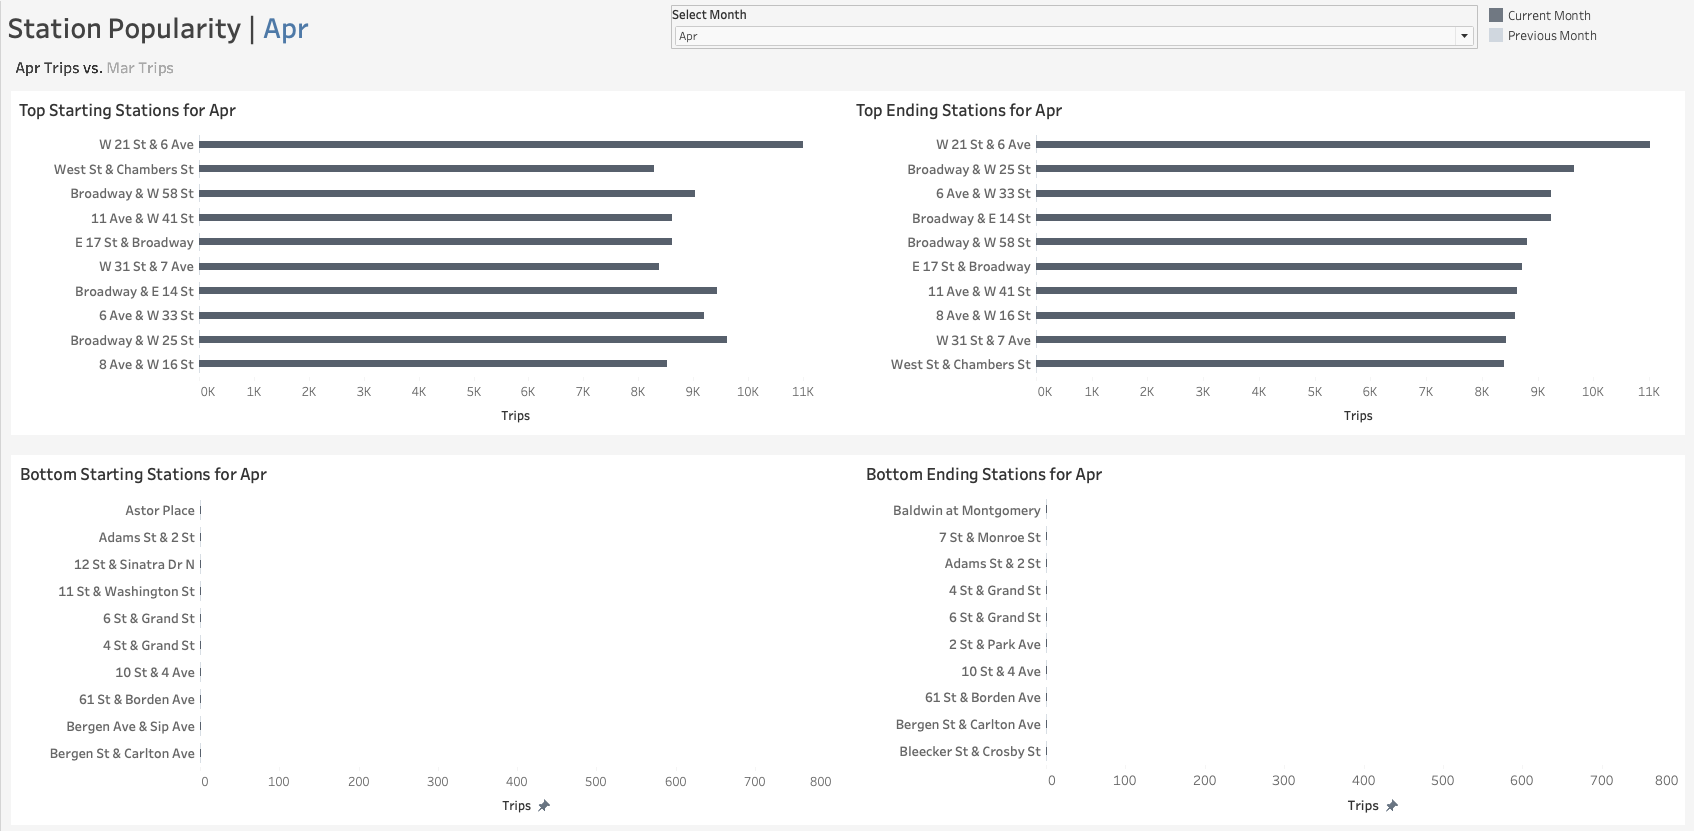

What the dashboard file says about the page in this screenshot:
{"tool":"tableau","page":{"name":"Station Popularity","canvas":[1000,1000],"units":"permille","ordinal":2},"visuals":[{"type":"text","box":[0,0,457.7,52.6]},{"type":"parameter","param":"[Parameters].[Parameter 1]","box":[457.7,0,395.9,52.6]},{"type":"legend","title":"Top Starting Stations","param":"[federated.02sm7nr1siw9os1d3kso008bdk6i].[:Measure Names]","box":[853.6,0,146.4,52.6]},{"type":"worksheet","title":"Legend CM_PM","mark":"Automatic","box":[0,52.6,1000,184.2]},{"type":"worksheet","title":"Top Starting Stations","mark":"Bar","rows":["start_station_name"],"cols":["CM Trips (copy)_2813975771367456798","Calculation_2813975771363704857"],"box":[6.9,247,493.5,348.2]},{"type":"worksheet","title":"Top Ending Stations","mark":"Bar","rows":["end_station_name"],"cols":["CM Trips (copy)_2813975771367456798","Calculation_2813975771363704857"],"box":[500.3,247,492.8,348.2]},{"type":"worksheet","title":"Bottom Starting Stations","mark":"Bar","rows":["start_station_name"],"cols":["CM Trips (copy)_2813975771367456798","Calculation_2813975771363704857"],"box":[6.9,615.4,493.5,374.5]},{"type":"worksheet","title":"Bottom Ending Stations","mark":"Bar","rows":["end_station_name"],"cols":["CM Trips (copy)_2813975771367456798","Calculation_2813975771363704857"],"box":[500.3,615.4,492.8,374.5]}]}

Visuals, with their boxes on the dashboard's canvas, which has no fixed pixel size, in thousandths of its width and height (x1, y1, x2, y2). These are canvas units, not pixel positions in the 1694x831 screenshot, which may show the page scaled, cropped or inside an application window:
text: l=0, t=0, r=458, b=53
parameter: l=458, t=0, r=854, b=53
"Top Starting Stations" legend: l=854, t=0, r=1000, b=53
"Legend CM_PM" worksheet: l=0, t=53, r=1000, b=237
"Top Starting Stations" worksheet (Bar marks): l=7, t=247, r=500, b=595
"Top Ending Stations" worksheet (Bar marks): l=500, t=247, r=993, b=595
"Bottom Starting Stations" worksheet (Bar marks): l=7, t=615, r=500, b=990
"Bottom Ending Stations" worksheet (Bar marks): l=500, t=615, r=993, b=990
